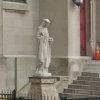Statue: (30, 12, 71, 87)
